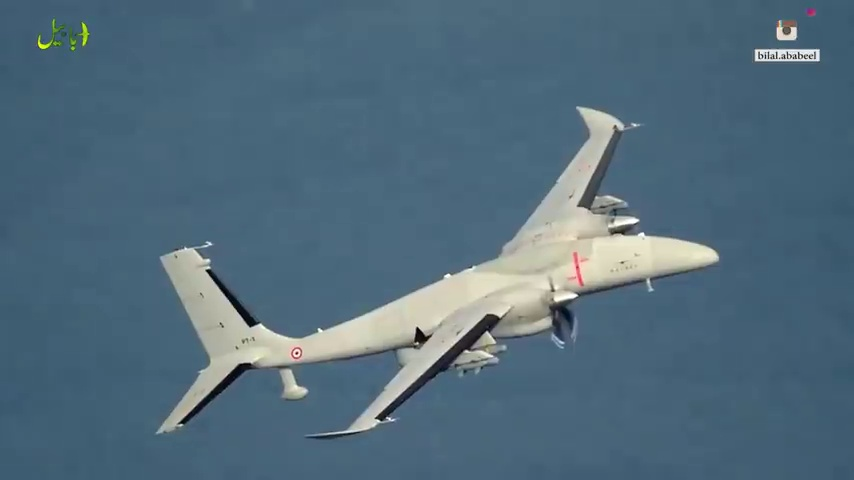military drone: (154, 106, 719, 439)
